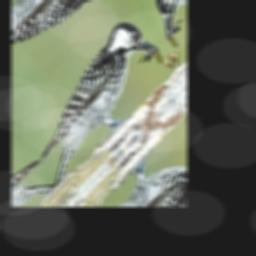Woodpecker: (20, 6, 174, 190)
